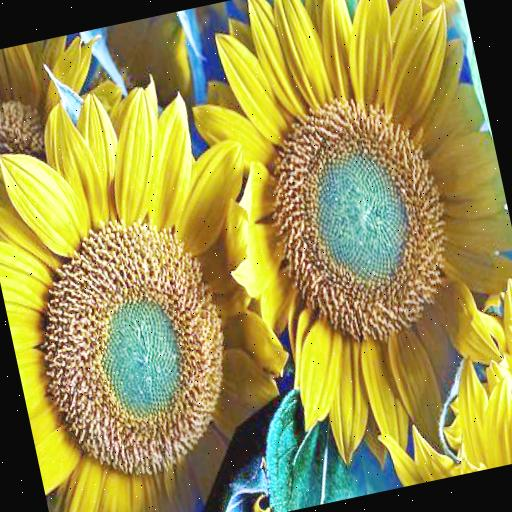sunflower: (0, 63, 315, 512)
